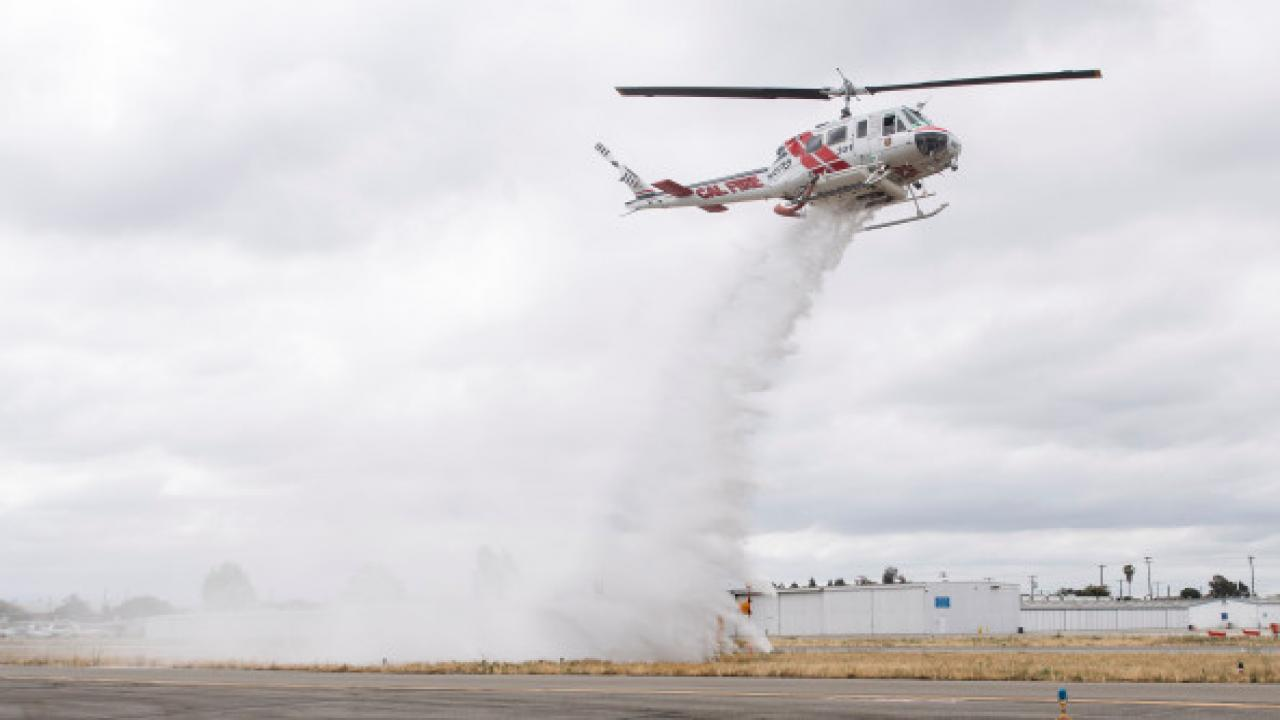Helicopter: (576, 58, 1111, 235)
